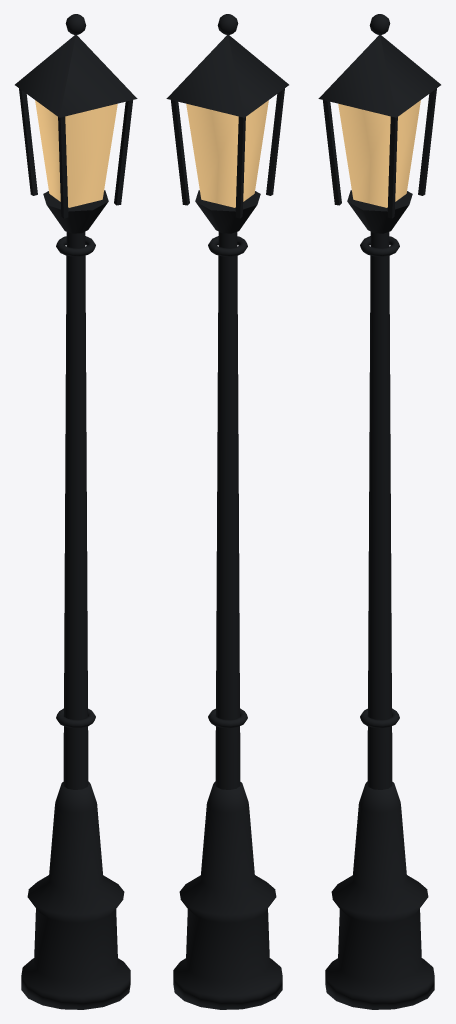
File: prop_lamp.glb
3 views of the same model, side by side, from view 1: azimuth 30°, elevation 25°; view 2: azimuth 150°, elevation 25°; view 3: azimuth 330°, elevation 25° (orthographic).
Size of the model in its own units: 0.52 by 5.05 by 0.52.
